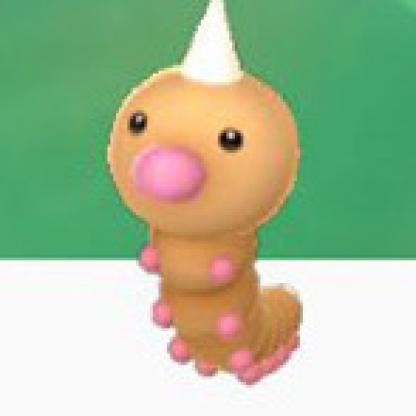Weedle: (102, 13, 317, 391)
